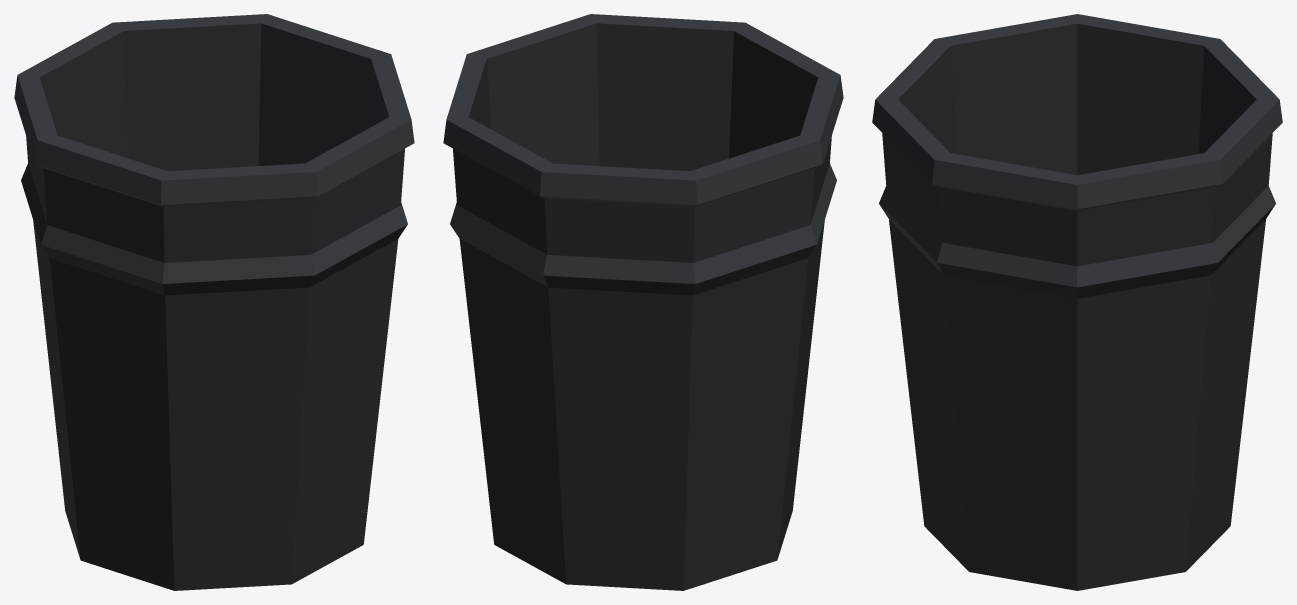
File: SM_Prop_Flower_Bucket_01.obj
3 views of the same model, side by side, from view 1: azimuth 30°, elevation 25°; view 2: azimuth 150°, elevation 25°; view 3: azimuth 270°, elevation 25° (orthographic).
Visible parts, largest first — view 1: SM_Prop_Flower_Bucket_01_0; view 2: SM_Prop_Flower_Bucket_01_0; view 3: SM_Prop_Flower_Bucket_01_0.
Boxes of the visible parts, x1,y1,x2,y2 form: SM_Prop_Flower_Bucket_01_0: [14, 14, 414, 590]; SM_Prop_Flower_Bucket_01_0: [443, 14, 843, 590]; SM_Prop_Flower_Bucket_01_0: [872, 14, 1282, 590].
Size of the model in its own units: 0.3336 by 0.3826 by 0.3336.
1 material, 1 textured.
